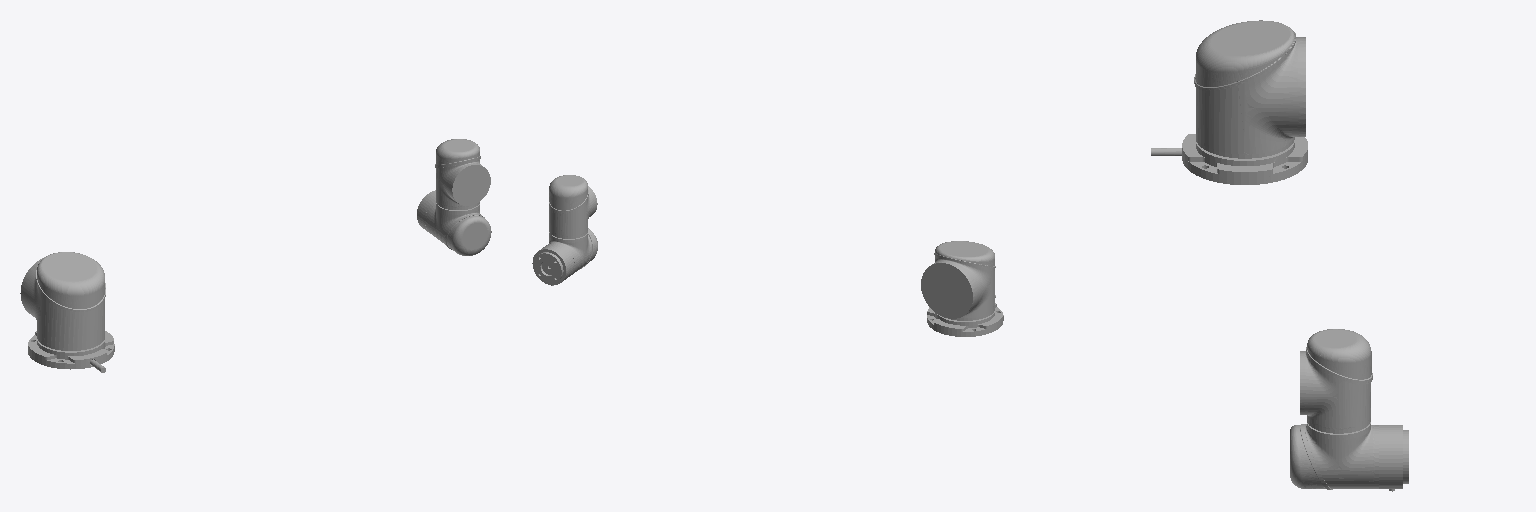
URDF robot description (ur5):
<?xml version="1.0" ?>
<!-- =================================================================================== -->
<!-- |    This document was autogenerated by xacro from ur5.urdf.xacro                 | -->
<!-- |    EDITING THIS FILE BY HAND IS NOT RECOMMENDED                                 | -->
<!-- =================================================================================== -->
<robot name="ur5">
  <link name="base_link">
    <visual>
      <geometry>
        <mesh filename="package://ur_description/meshes/ur5/visual/base.dae"/>
      </geometry>
      <material name="LightGrey">
        <color rgba="0.7 0.7 0.7 1.0"/>
      </material>
    </visual>
    <collision>
      <geometry>
        <mesh filename="package://ur_description/meshes/ur5/collision/base.stl"/>
      </geometry>
    </collision>
  </link>
  <joint name="shoulder_pan_joint" type="revolute">
    <parent link="base_link"/>
    <child link="shoulder_link"/>
    <origin rpy="0.0 0.0 0.0" xyz="0.0 0.0 0.089159"/>
    <axis xyz="0 0 1"/>
    <limit effort="150.0" lower="-6.283185308" upper="6.283185308" velocity="3.15"/>
    <dynamics damping="0.0" friction="0.0"/>
  </joint>
  <link name="shoulder_link">
    <visual>
      <geometry>
        <mesh filename="package://ur_description/meshes/ur5/visual/shoulder.dae"/>
      </geometry>
      <material name="LightGrey">
        <color rgba="0.7 0.7 0.7 1.0"/>
      </material>
    </visual>
    <collision>
      <geometry>
        <mesh filename="package://ur_description/meshes/ur5/collision/shoulder.stl"/>
      </geometry>
    </collision>
  </link>
  <joint name="shoulder_lift_joint" type="revolute">
    <parent link="shoulder_link"/>
    <child link="upper_arm_link"/>
    <origin rpy="0.0 1.57079632679 0.0" xyz="0.0 0.13585 0.0"/>
    <axis xyz="0 1 0"/>
    <limit effort="150.0" lower="-6.28318530718" upper="6.28318530718" velocity="3.15"/>
    <dynamics damping="0.0" friction="0.0"/>
  </joint>
  <link name="upper_arm_link">
    <visual>
      <geometry>
        <mesh filename="package://ur_description/meshes/ur5/visual/upperarm.dae"/>
      </geometry>
      <material name="LightGrey">
        <color rgba="0.7 0.7 0.7 1.0"/>
      </material>
    </visual>
    <collision>
      <geometry>
        <mesh filename="package://ur_description/meshes/ur5/collision/upperarm.stl"/>
      </geometry>
    </collision>
  </link>
  <joint name="elbow_joint" type="revolute">
    <parent link="upper_arm_link"/>
    <child link="forearm_link"/>
    <origin rpy="0.0 0.0 0.0" xyz="0.0 -0.1197 0.42500"/>
    <axis xyz="0 1 0"/>
    <limit effort="150.0" lower="-3.141592654" upper="3.141592654" velocity="3.15"/>
    <dynamics damping="0.0" friction="0.0"/>
  </joint>
  <link name="forearm_link">
    <visual>
      <geometry>
        <mesh filename="package://ur_description/meshes/ur5/visual/forearm.dae"/>
      </geometry>
      <material name="LightGrey">
        <color rgba="0.7 0.7 0.7 1.0"/>
      </material>
    </visual>
    <collision>
      <geometry>
        <mesh filename="package://ur_description/meshes/ur5/collision/forearm.stl"/>
      </geometry>
    </collision>
  </link>
  <joint name="wrist_1_joint" type="revolute">
    <parent link="forearm_link"/>
    <child link="wrist_1_link"/>
    <origin rpy="0.0 1.57079632679  0.0" xyz="0.0 0.0 0.39225"/>
    <axis xyz="0 1 0"/>
    <limit effort="28.0" lower="-6.28318530718" upper="6.28318530718" velocity="3.2"/>
    <dynamics damping="0.0" friction="0.0"/>
  </joint>
  <link name="wrist_1_link">
    <visual>
      <geometry>
        <mesh filename="package://ur_description/meshes/ur5/visual/wrist1.dae"/>
      </geometry>
      <material name="LightGrey">
        <color rgba="0.7 0.7 0.7 1.0"/>
      </material>
    </visual>
    <collision>
      <geometry>
        <mesh filename="package://ur_description/meshes/ur5/collision/wrist1.stl"/>
      </geometry>
    </collision>
  </link>
  <joint name="wrist_2_joint" type="revolute">
    <parent link="wrist_1_link"/>
    <child link="wrist_2_link"/>
    <origin rpy="0.0 0.0 0.0" xyz="0.0 0.093 0.0"/>
    <axis xyz="0 0 1"/>
    <limit effort="28.0" lower="-6.28318530718" upper="6.28318530718" velocity="3.2"/>
    <dynamics damping="0.0" friction="0.0"/>
  </joint>
  <link name="wrist_2_link">
    <visual>
      <geometry>
        <mesh filename="package://ur_description/meshes/ur5/visual/wrist2.dae"/>
      </geometry>
      <material name="LightGrey">
        <color rgba="0.7 0.7 0.7 1.0"/>
      </material>
    </visual>
    <collision>
      <geometry>
        <mesh filename="package://ur_description/meshes/ur5/collision/wrist2.stl"/>
      </geometry>
    </collision>
  </link>
  <joint name="wrist_3_joint" type="revolute">
    <parent link="wrist_2_link"/>
    <child link="wrist_3_link"/>
    <origin rpy="0.0 0.0 0.0" xyz="0.0 0.0 0.09465"/>
    <axis xyz="0 1 0"/>
    <limit effort="28.0" lower="-6.28318530718" upper="6.28318530718" velocity="3.2"/>
    <dynamics damping="0.0" friction="0.0"/>
  </joint>
  <link name="wrist_3_link">
    <visual>
      <geometry>
        <mesh filename="package://ur_description/meshes/ur5/visual/wrist3.dae"/>
      </geometry>
      <material name="LightGrey">
        <color rgba="0.7 0.7 0.7 1.0"/>
      </material>
    </visual>
    <collision>
      <geometry>
        <mesh filename="package://ur_description/meshes/ur5/collision/wrist3.stl"/>
      </geometry>
    </collision>
  </link>
  <joint name="ee_fixed_joint" type="fixed">
    <parent link="wrist_3_link"/>
    <child link="ee_link"/>
    <origin rpy="0.0 0.0 1.57079632679 " xyz="0.0 0.0823 0.0"/>
  </joint>
  <link name="ee_link">
    <collision>
      <geometry>
        <box size="0.01 0.01 0.01"/>
      </geometry>
      <origin rpy="0 0 0" xyz="-0.01 0 0"/>
    </collision>
  </link>
  <!-- ROS base_link to UR 'Base' Coordinates transform -->
  <link name="base"/>
  <joint name="base_link-base_fixed_joint" type="fixed">
    <!-- NOTE: this rotation is only needed as long as base_link itself is
               not corrected wrt the real robot (ie: rotated over 180
               degrees)
    -->
    <origin rpy="0 0 -3.141592654" xyz="0 0 0"/>
    <parent link="base_link"/>
    <child link="base"/>
  </joint>
  <!-- Frame coincident with all-zeros TCP on UR controller -->
  <link name="tool0"/>
  <joint name="wrist_3_link-tool0_fixed_joint" type="fixed">
    <origin rpy="1.57079632679 0 0" xyz="0 0.0823 0"/>
    <parent link="wrist_3_link"/>
    <child link="tool0"/>
  </joint>
  <ros2_control name="URPositionHardwareInterface" type="system">
    <hardware>
      <plugin>ur_robot_driver/URPositionHardwareInterface</plugin>
      <param name="example_param_hw_start_duration_sec">2.0</param>
      <param name="example_param_hw_stop_duration_sec">3.0</param>
      <param name="example_param_hw_slowdown">2.0</param>
    </hardware>
    <joint name="shoulder_pan_joint">
      <command_interface name="position">
        <param name="min">-1</param>
        <param name="max">1</param>
      </command_interface>
      <state_interface name="position"/>
    </joint>
    <joint name="shoulder_lift_joint">
      <command_interface name="position">
        <param name="min">-1</param>
        <param name="max">1</param>
      </command_interface>
      <state_interface name="position"/>
    </joint>
    <joint name="elbow_joint">
      <command_interface name="position">
        <param name="min">-1</param>
        <param name="max">1</param>
      </command_interface>
      <state_interface name="position"/>
    </joint>
    <joint name="wrist_1_joint">
      <command_interface name="position">
        <param name="min">-1</param>
        <param name="max">1</param>
      </command_interface>
      <state_interface name="position"/>
    </joint>
    <joint name="wrist_2_joint">
      <command_interface name="position">
        <param name="min">-1</param>
        <param name="max">1</param>
      </command_interface>
      <state_interface name="position"/>
    </joint>
    <joint name="wrist_3_joint">
      <command_interface name="position">
        <param name="min">-1</param>
        <param name="max">1</param>
      </command_interface>
      <state_interface name="position"/>
    </joint>
  </ros2_control>
</robot>

--- What the picture shows (computed from the rendered views, not written in the file) ---
3 views of the same robot in one strip: view 1: azimuth 30°, elevation 25°; view 2: azimuth 150°, elevation 25°; view 3: azimuth 270°, elevation 25° (orthographic).
Robot: ur5 — 10 links, 9 joints (6 revolute, 3 fixed); root link base_link; default pose: every joint at zero.
Links seen in each view (by area): view 1: shoulder_link, wrist_1_link, wrist_2_link, base_link; view 2: shoulder_link, wrist_1_link, base_link, wrist_3_link, wrist_2_link; view 3: shoulder_link, wrist_1_link, wrist_2_link, base_link, wrist_3_link.
Boxes of the visible links, x1,y1,x2,y2 form: shoulder_link: [20, 252, 105, 350]; wrist_1_link: [435, 139, 490, 209]; wrist_2_link: [425, 200, 491, 255]; base_link: [28, 331, 114, 372]; shoulder_link: [921, 241, 995, 320]; wrist_1_link: [549, 175, 597, 238]; base_link: [927, 295, 1003, 336]; wrist_3_link: [532, 244, 572, 285]; wrist_2_link: [548, 228, 597, 275]; shoulder_link: [1194, 20, 1305, 158]; wrist_1_link: [1300, 329, 1372, 433]; wrist_2_link: [1290, 422, 1378, 489]; base_link: [1151, 134, 1307, 184]; wrist_3_link: [1379, 425, 1408, 491].
Bounding box of the posed robot: 0.9294 × 0.301 × 0.2062 m (x, y, z).
5 mesh visuals loaded from 7 distinct referenced files (5 Collada DAE); not drawn: 2 (reference not matched to a file when rendering).